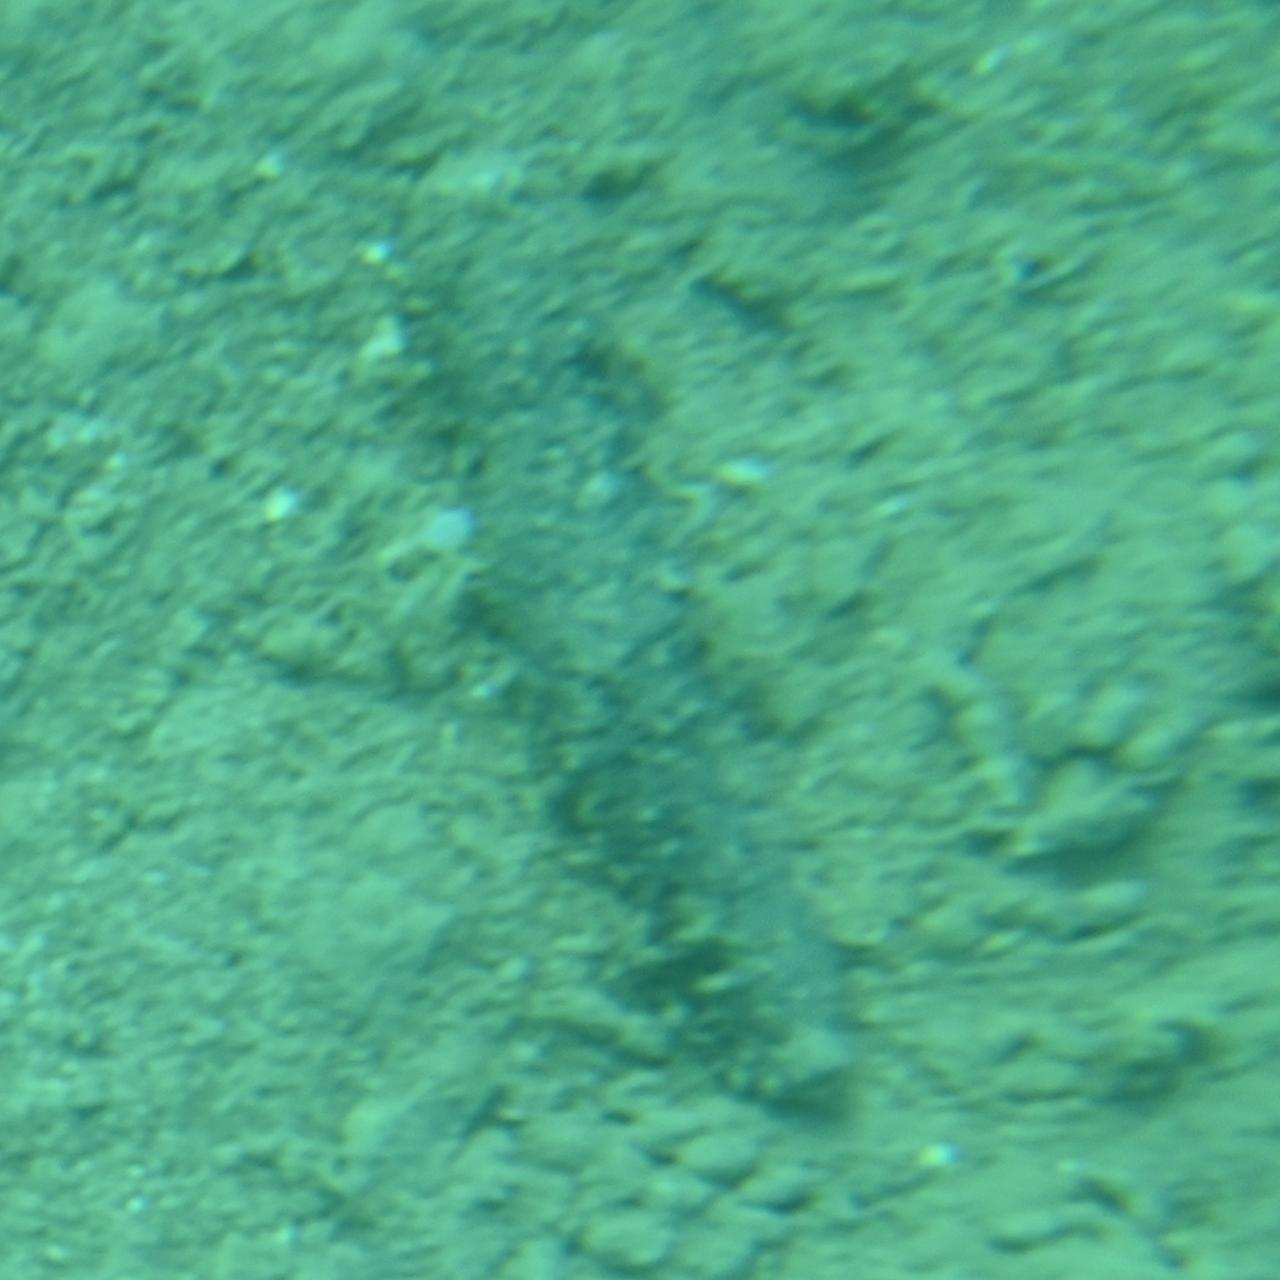Holothuria tubulosa: (388, 132, 892, 1148)
